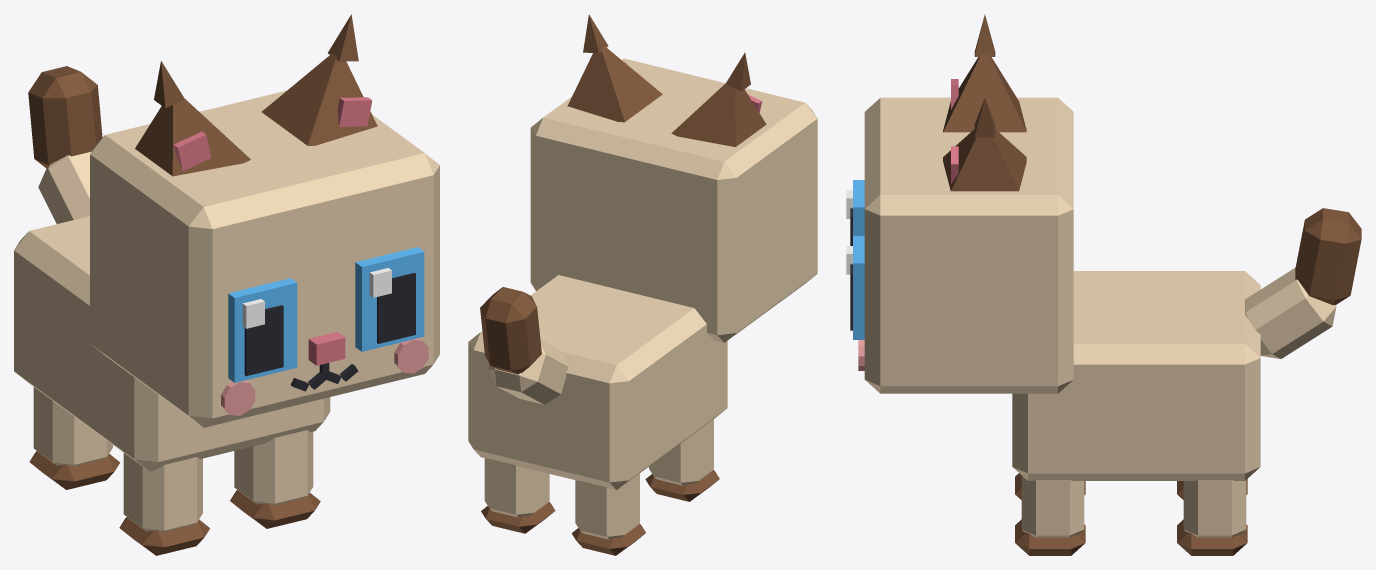
Rendered from CleanACat_Cat_Toffee.fbx.
3 renders of one model, left to right at view 1: azimuth 30°, elevation 25°; view 2: azimuth 150°, elevation 25°; view 3: azimuth 270°, elevation 25°, orthographic. The views are drawn at different scales.
Visible parts, largest first — view 1: CleanACat_Cat_Toffee_Head, CleanACat_Cat_Toffee_Body, CleanACat_Cat_Toffee_Tail, CleanACat_Cat_Toffee_EarL, CleanACat_Cat_Toffee_LegF2, CleanACat_Cat_Toffee_LegF1, CleanACat_Cat_Toffee_Eye2, CleanACat_Cat_Toffee_Eye1, CleanACat_Cat_Toffee_EarR, CleanACat_Cat_Toffee_LegB2; view 2: CleanACat_Cat_Toffee_Head, CleanACat_Cat_Toffee_Body, CleanACat_Cat_Toffee_Tail, CleanACat_Cat_Toffee_EarL, CleanACat_Cat_Toffee_LegB2, CleanACat_Cat_Toffee_LegB1, CleanACat_Cat_Toffee_EarR, CleanACat_Cat_Toffee_LegF2; view 3: CleanACat_Cat_Toffee_Head, CleanACat_Cat_Toffee_Body, CleanACat_Cat_Toffee_Tail, CleanACat_Cat_Toffee_LegF1, CleanACat_Cat_Toffee_LegB1, CleanACat_Cat_Toffee_EarL, CleanACat_Cat_Toffee_EarR, CleanACat_Cat_Toffee_Eye1, CleanACat_Cat_Toffee_Eye2.
Boxes of the visible parts, x1,y1,x2,y2 form: CleanACat_Cat_Toffee_Head: (90, 90, 439, 427); CleanACat_Cat_Toffee_Body: (14, 216, 330, 471); CleanACat_Cat_Toffee_Tail: (28, 66, 102, 223); CleanACat_Cat_Toffee_EarL: (262, 14, 377, 145); CleanACat_Cat_Toffee_LegF2: (119, 453, 209, 555); CleanACat_Cat_Toffee_LegF1: (230, 430, 320, 528); CleanACat_Cat_Toffee_Eye2: (228, 278, 297, 382); CleanACat_Cat_Toffee_Eye1: (355, 247, 424, 351); CleanACat_Cat_Toffee_EarR: (135, 61, 250, 176); CleanACat_Cat_Toffee_LegB2: (29, 387, 120, 489); CleanACat_Cat_Toffee_Head: (530, 58, 817, 342); CleanACat_Cat_Toffee_Body: (468, 275, 727, 489); CleanACat_Cat_Toffee_Tail: (480, 287, 568, 404); CleanACat_Cat_Toffee_EarL: (567, 14, 662, 122); CleanACat_Cat_Toffee_LegB2: (571, 473, 645, 555); CleanACat_Cat_Toffee_LegB1: (481, 458, 555, 533); CleanACat_Cat_Toffee_EarR: (671, 52, 766, 146); CleanACat_Cat_Toffee_LegF2: (645, 419, 719, 501); CleanACat_Cat_Toffee_Head: (858, 97, 1073, 393); CleanACat_Cat_Toffee_Body: (1012, 271, 1260, 480); CleanACat_Cat_Toffee_Tail: (1245, 208, 1361, 358); CleanACat_Cat_Toffee_LegF1: (1015, 475, 1085, 555); CleanACat_Cat_Toffee_LegB1: (1177, 480, 1247, 555); CleanACat_Cat_Toffee_EarL: (943, 98, 1026, 191); CleanACat_Cat_Toffee_EarR: (943, 14, 1026, 132); CleanACat_Cat_Toffee_Eye1: (846, 236, 864, 339); CleanACat_Cat_Toffee_Eye2: (846, 180, 864, 245).
Size of the model in its own units: 1 by 1.97 by 1.97.
1 material, 1 textured.
